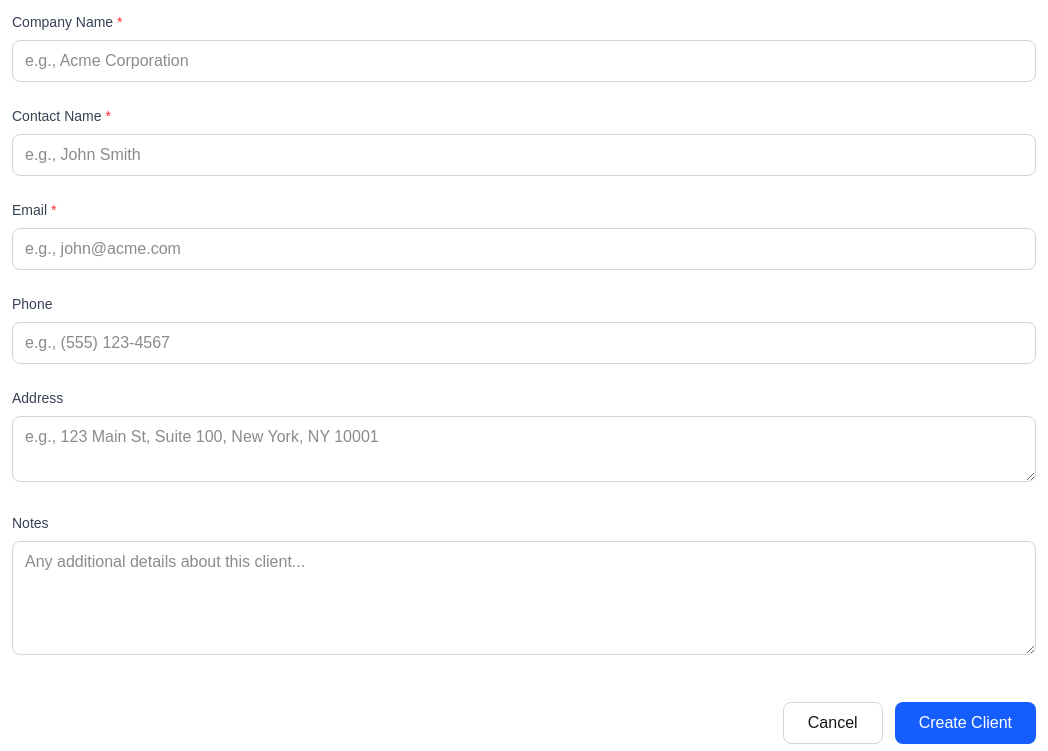
Scenario: ClientForm › validation › clears field error when user types in that field
Note: Submit to trigger validation
Step 1. Click the button "Create Client" → [965, 723], box left=895, top=702, right=1036, bottom=744
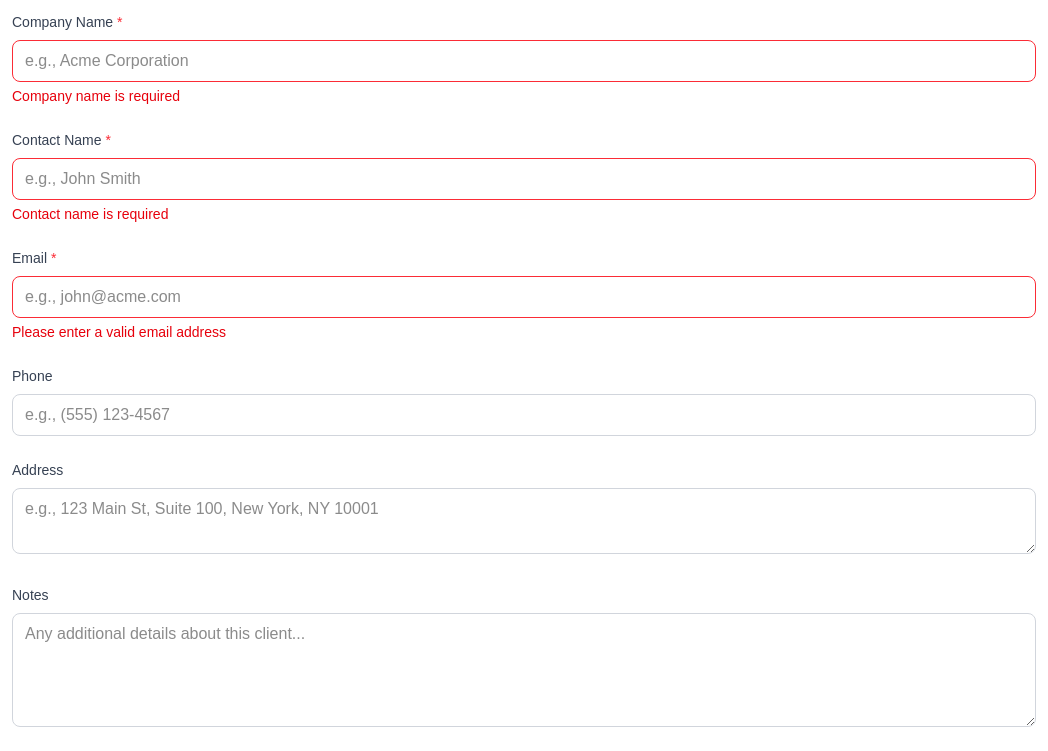
expect the text "Company name is required" is shown: met, box left=12, top=88, right=180, bottom=104
Note: Type in the field to clear the error
Step 2. Type "A" into the field labelled "Company Name *" → [524, 61], box left=12, top=40, right=1036, bottom=82
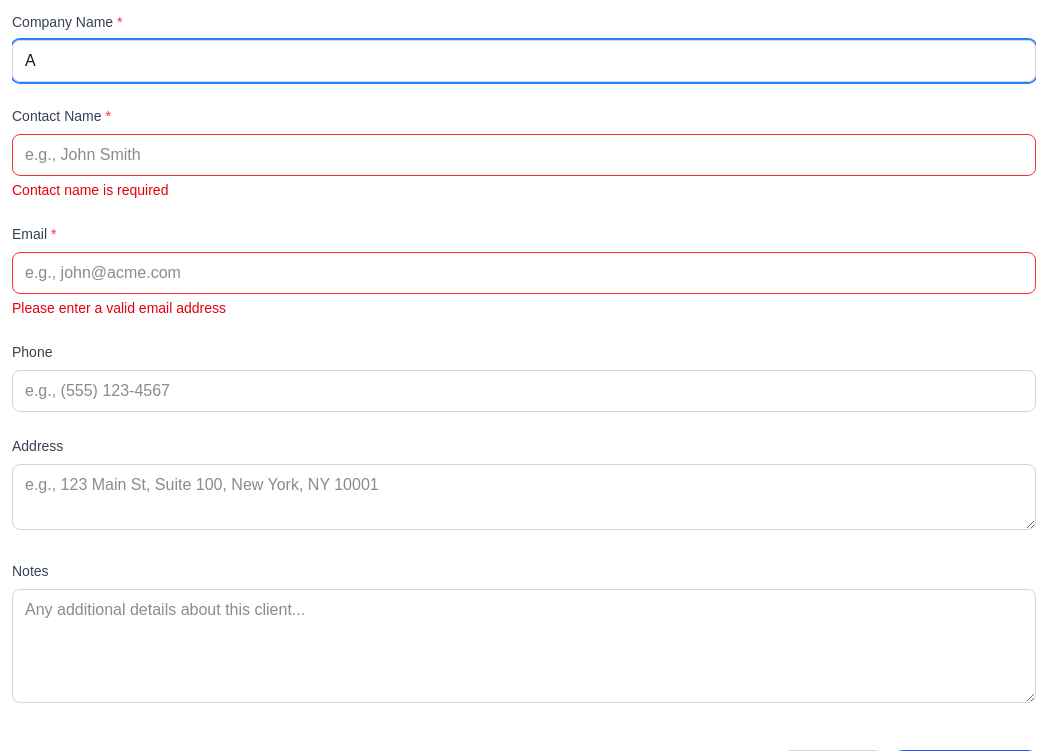
expect the text "Company name is required" is gone: met
